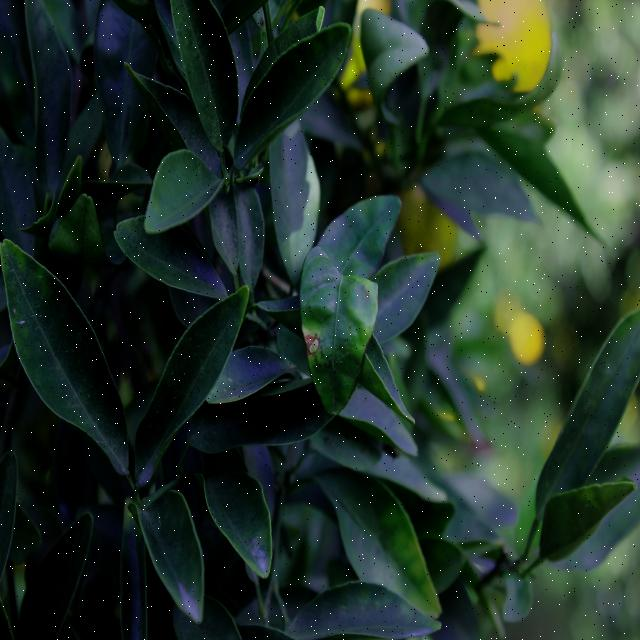canker: (304, 292, 360, 373)
